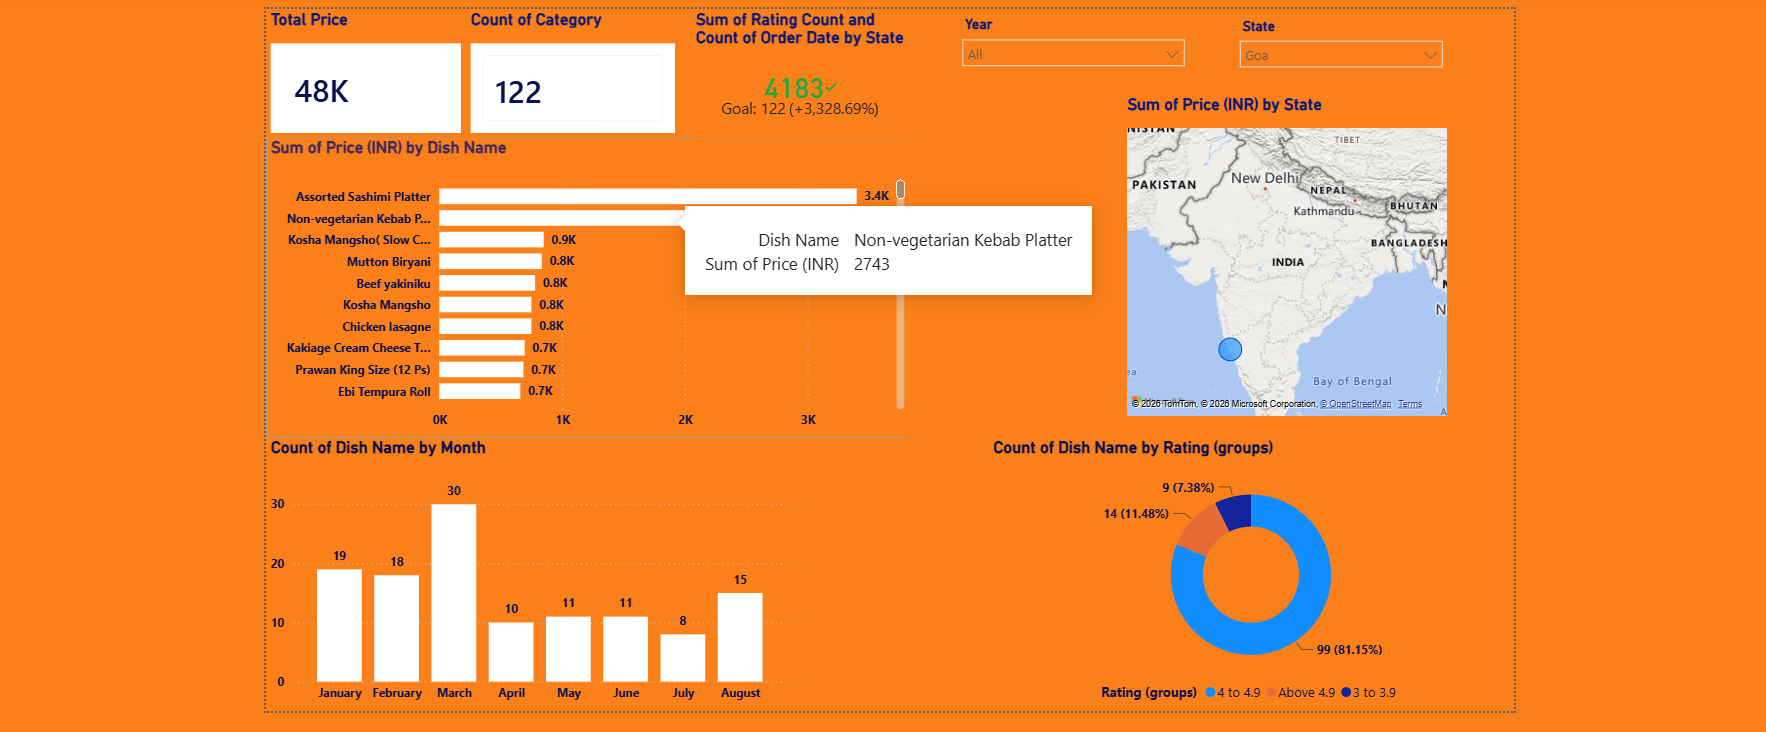

The page's visual inventory and layout, read from the dashboard file:
{"tool":"powerbi","page":{"name":"Swiggy Data Analysis","canvas":[1280,720],"ordinal":0},"visuals":[{"type":"clusteredColumnChart","fields":{"Category":["Table1.Order Date.Variation.Date Hierarchy.Year","Table1.Order Date.Variation.Date Hierarchy.Quarter","Table1.Order Date.Variation.Date Hierarchy.Month","Table1.Order Date.Variation.Date Hierarchy.Day"],"Y":["CountNonNull(Table1.Dish Name)"]},"box":[0,440,539,280.2],"z":0},{"type":"donutChart","fields":{"Category":["Table1.Rating (groups)"],"Y":["CountNonNull(Table1.Dish Name)"]},"box":[659.3,440,538.8,280],"z":1000},{"type":"clusteredBarChart","fields":{"Category":["Table1.Dish Name"],"Y":["Sum(Table1.Price (INR))"]},"box":[0,132.5,660,307.5],"z":2000},{"type":"cardVisual","title":"Total Price","fields":{"Data":["Sum(Table1.Price (INR))"]},"box":[0,0,205,132.5],"z":3000},{"type":"cardVisual","title":"Count of Category","fields":{"Data":["CountNonNull(Table1.Category)"]},"box":[204.9,0,219.3,132.7],"z":5000},{"type":"kpi","fields":{"Goal":["CountNonNull(Table1.Order Date)"],"Indicator":["Sum(Table1.Rating Count)"],"TrendLine":["Table1.State"]},"box":[435.7,0,223.6,132.7],"z":5001},{"type":"map","fields":{"Category":["Table1.State"],"Size":["Sum(Table1.Price (INR))"]},"box":[1050.4,244.6,230,307.1],"z":5002},{"type":"slicer","fields":{"Values":["Table1.Order Date.Variation.Date Hierarchy.Year"]},"box":[704.4,2.4,248.2,83.2],"z":5003},{"type":"slicer","fields":{"Values":["Table1.State"]},"box":[988,3.7,228.7,79.5],"z":5004}]}

Visuals, with their boxes on the page's 1280x720 design canvas (x1, y1, x2, y2). These are canvas units, not pixel positions in the 1766x732 screenshot, which may show the page scaled, cropped or inside an application window:
clusteredColumnChart - Table1.Order Date.Variation.Date Hierarchy.Year x Table1.Order Date.Variation.Date Hierarchy.Quarter: <box>0,440,539,720</box>
donutChart - Table1.Rating (groups) x CountNonNull(Table1.Dish Name): <box>659,440,1198,720</box>
clusteredBarChart - Table1.Dish Name x Sum(Table1.Price (INR)): <box>0,132,660,440</box>
"Total Price" cardVisual: <box>0,0,205,132</box>
"Count of Category" cardVisual: <box>205,0,424,133</box>
kpi - CountNonNull(Table1.Order Date) x Sum(Table1.Rating Count): <box>436,0,659,133</box>
map - Table1.State x Sum(Table1.Price (INR)): <box>1050,245,1280,552</box>
slicer - Table1.Order Date.Variation.Date Hierarchy.Year: <box>704,2,953,86</box>
slicer - Table1.State: <box>988,4,1217,83</box>
